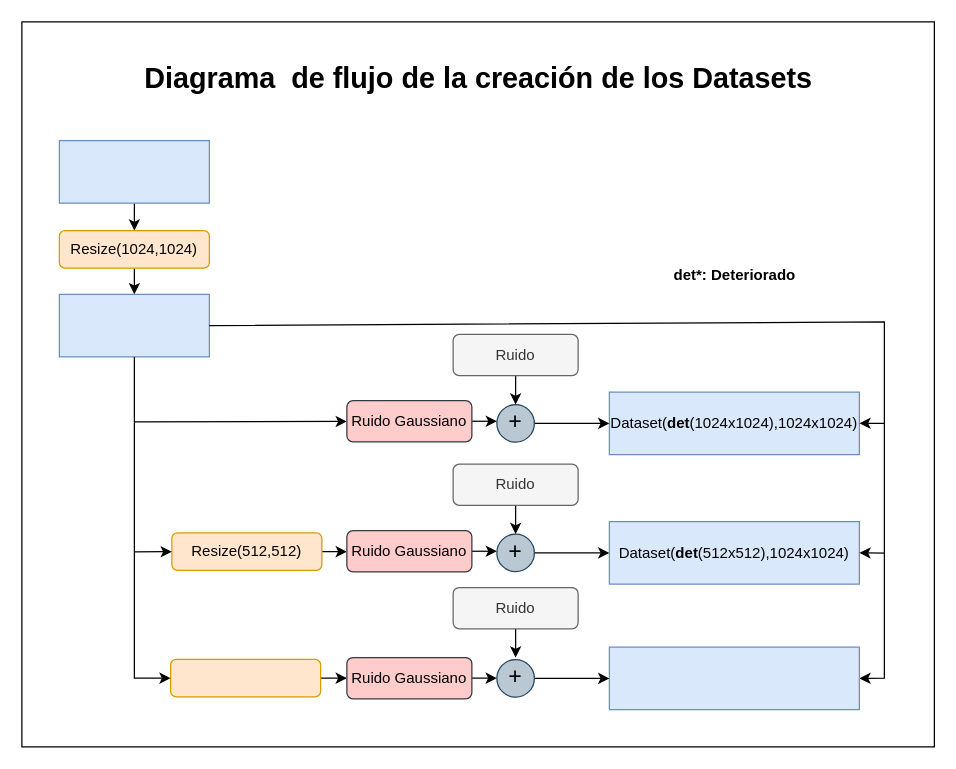
Image size: 956x769. Some labels were removed from this diagram. Here are the shapes that lost their labels. From the top down, the centre of each, then its label:
At [133,171]: "Dataset(DIV2K)".
At [133,325]: "Dataset(1024x1024)".
At [245,677]: "Resize(256,256)".
At [733,678]: "Dataset( det (256x256),1024x1024)".
